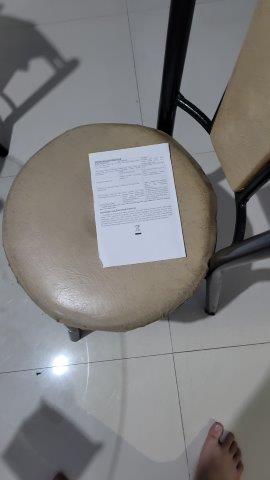kertas: (87, 141, 187, 266)
